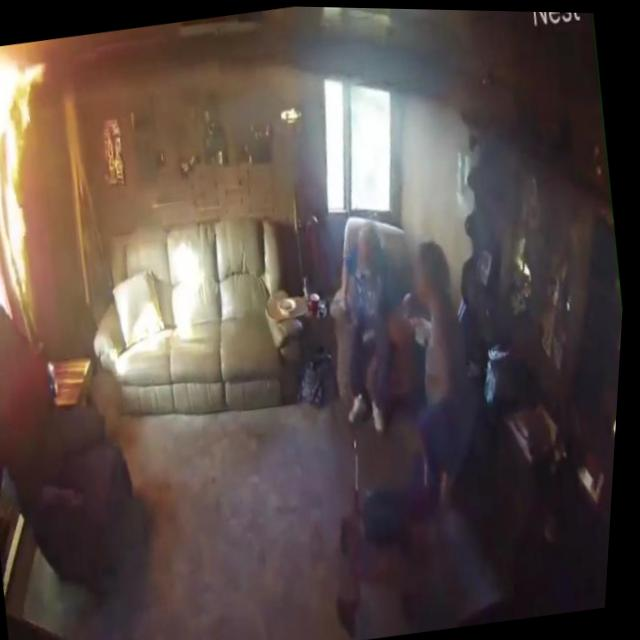fire: (0, 43, 86, 328)
